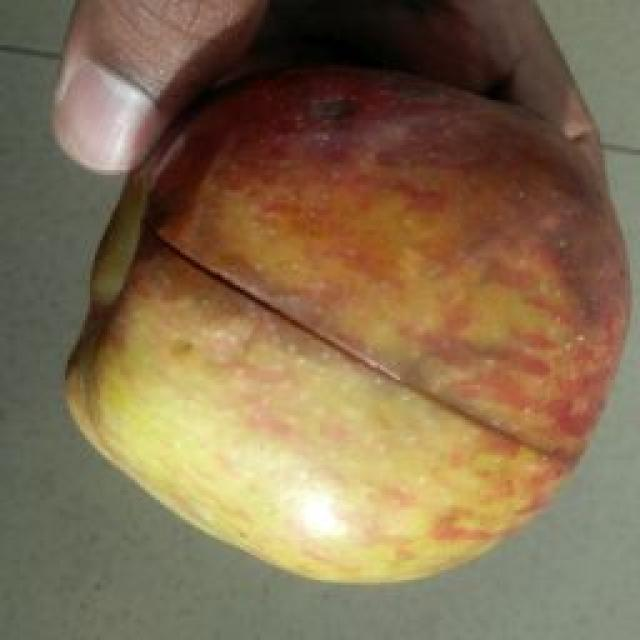Bad_Apple: (68, 71, 624, 582)
